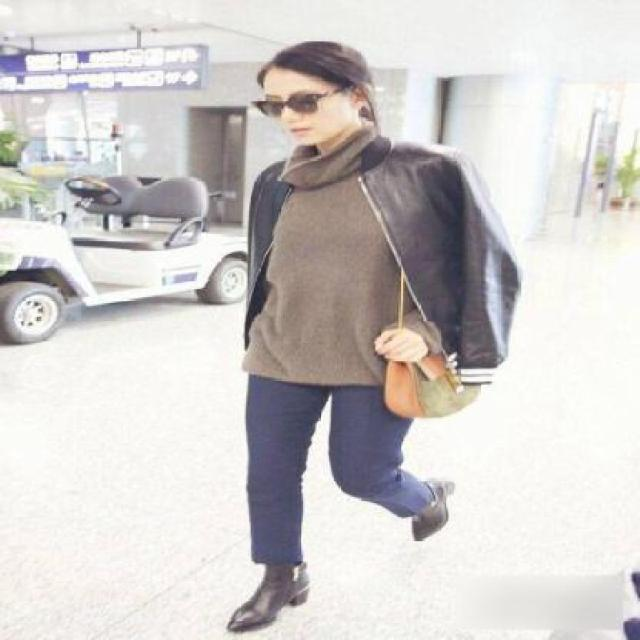Person: (229, 30, 534, 639)
